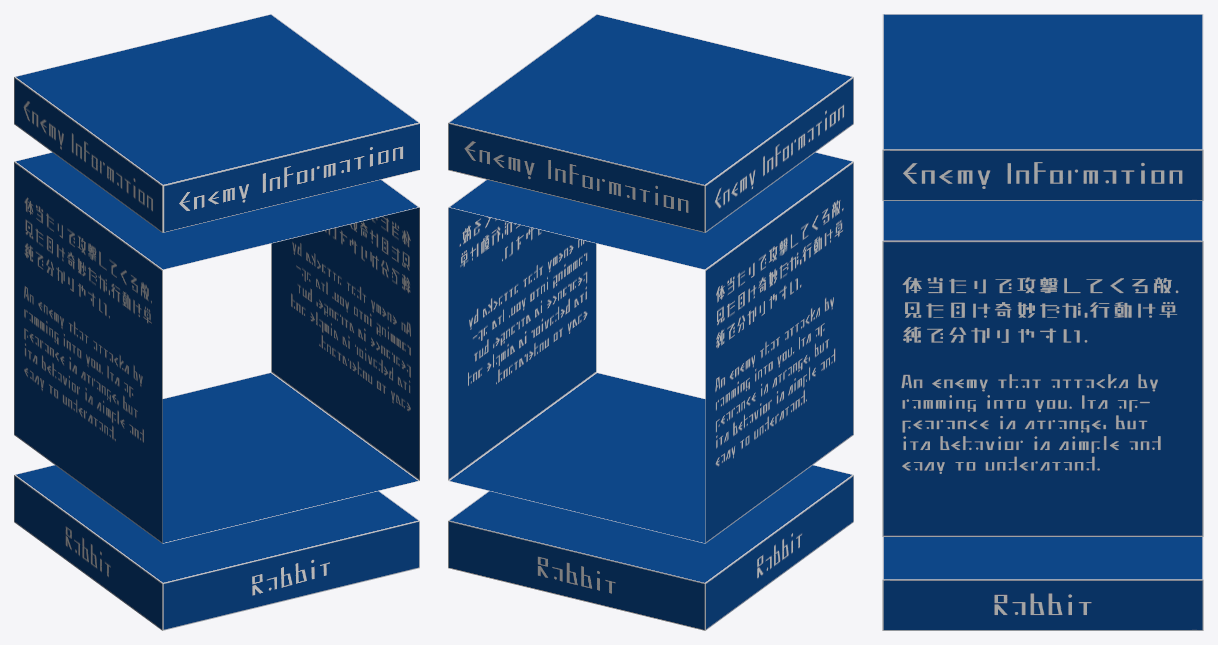
File: enemyInformation.fbx
3 views of the same model, side by side, from view 1: azimuth 30°, elevation 25°; view 2: azimuth 150°, elevation 25°; view 3: azimuth 270°, elevation 25° (orthographic). The views are drawn at different scales.
Parts seen in each view (by area): view 1: Cube, Cube.001, Cube.002; view 2: Cube, Cube.001, Cube.002; view 3: Cube, Cube.001, Cube.002.
Part boxes in pixels (bbox=[...]): Cube: bbox=[14, 152, 419, 543]; Cube.001: bbox=[14, 14, 419, 232]; Cube.002: bbox=[14, 465, 419, 630]; Cube: bbox=[448, 152, 853, 543]; Cube.001: bbox=[448, 14, 853, 232]; Cube.002: bbox=[448, 465, 853, 630]; Cube: bbox=[882, 201, 1203, 536]; Cube.001: bbox=[882, 14, 1203, 200]; Cube.002: bbox=[882, 537, 1203, 630].
Size of the model in its own units: 200 by 331 by 200.
3 materials, 3 textured.
